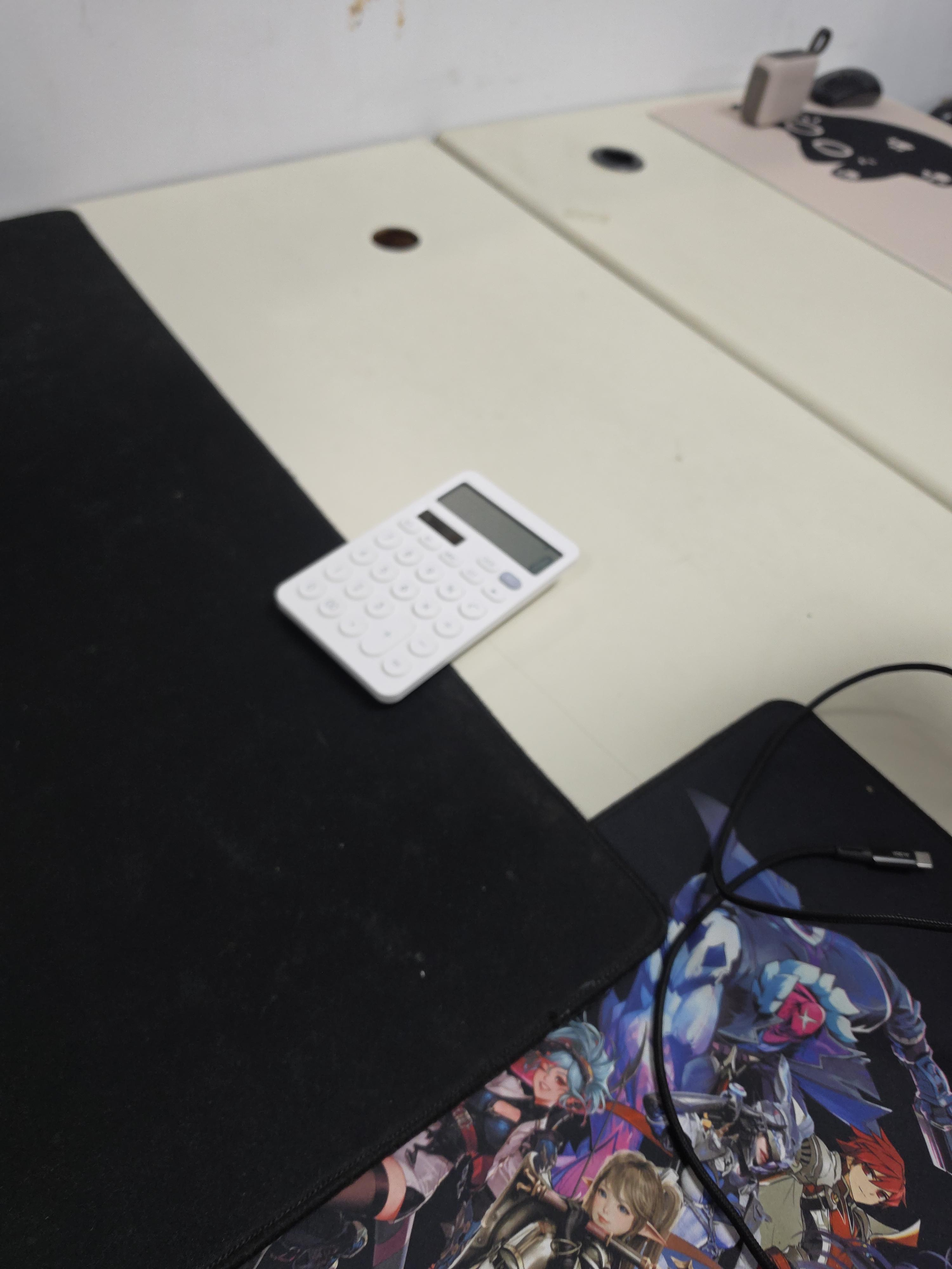calculator: (273, 469, 582, 705)
